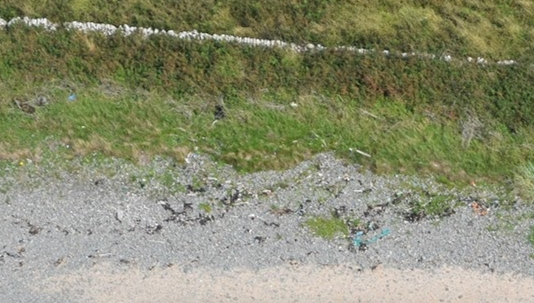scattered_barrel: (50, 83, 503, 248)
